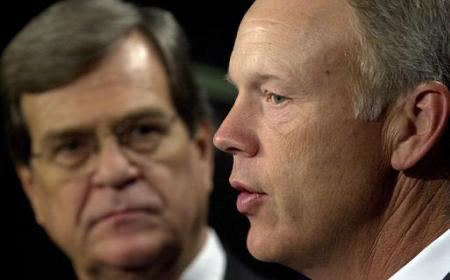Face: (14, 81, 208, 271), (204, 35, 352, 269)
